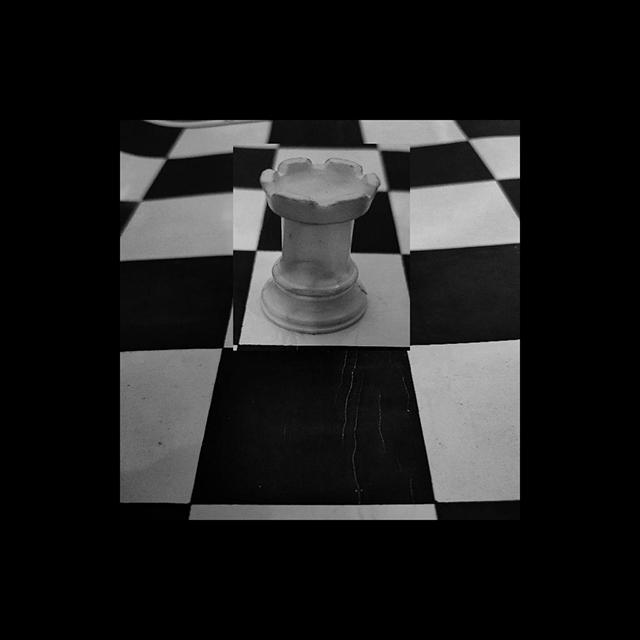white-rook: (253, 154, 384, 333)
